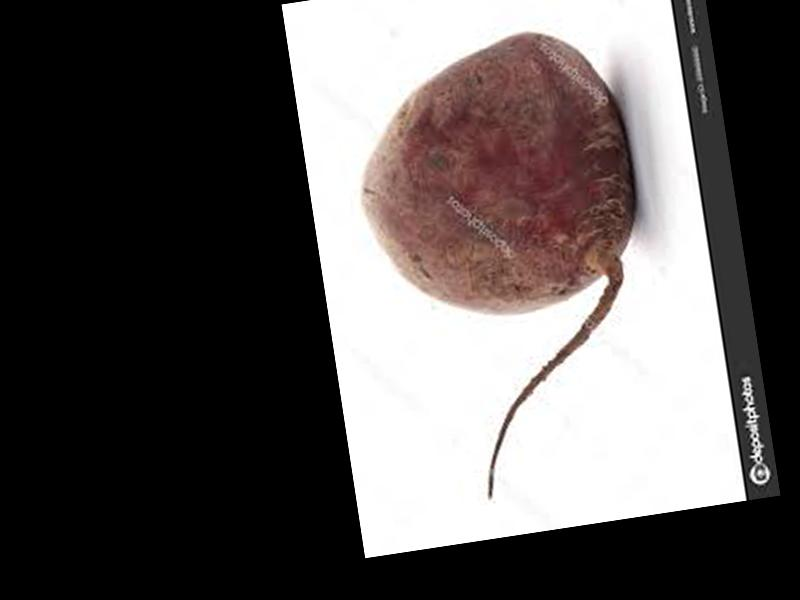Beet: (344, 20, 677, 508)
